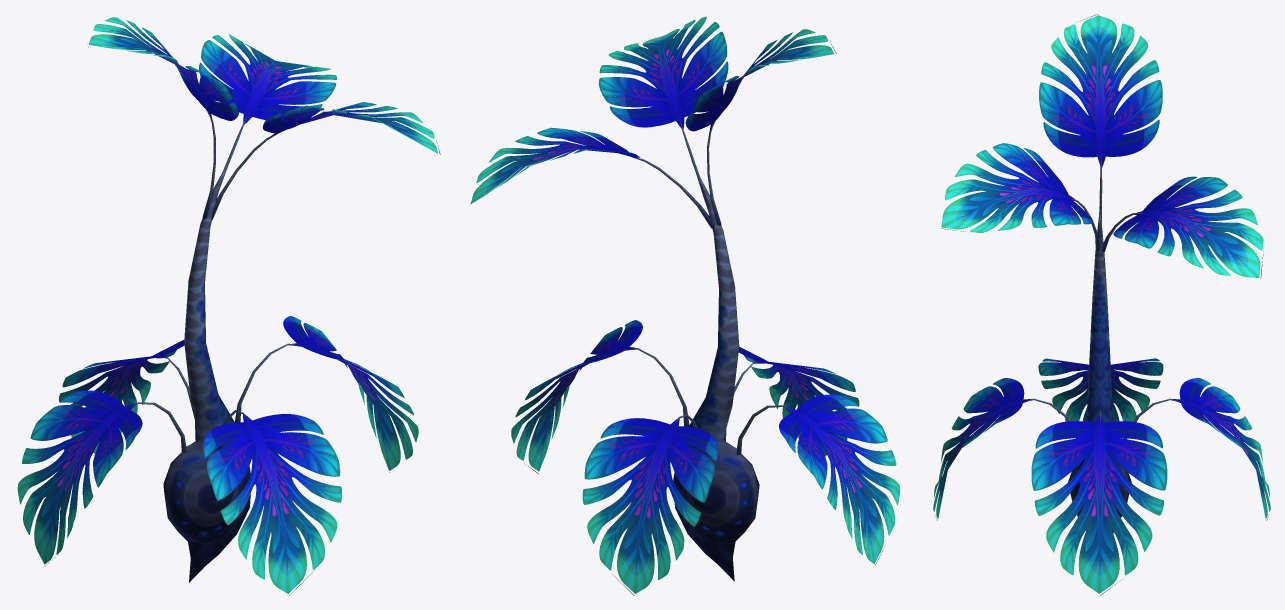
File: Blue_Tree_03c.FBX
3 renders of one model, left to right at view 1: azimuth 30°, elevation 25°; view 2: azimuth 150°, elevation 25°; view 3: azimuth 270°, elevation 25°, orthographic. The views are drawn at different scales.
Parts seen in each view (by area): view 1: Blue_Tree_03c; view 2: Blue_Tree_03c; view 3: Blue_Tree_03c.
Boxes of the visible parts, x1,y1,x2,y2 form: Blue_Tree_03c: (17,17,440,595); Blue_Tree_03c: (470,16,900,595); Blue_Tree_03c: (933,14,1270,595).
Size of the model in its own units: 163 by 252 by 153.
